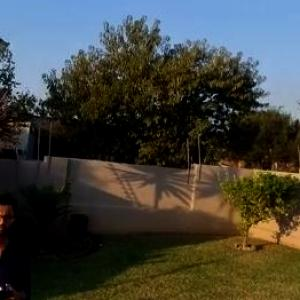follow: (0, 191, 35, 299)
